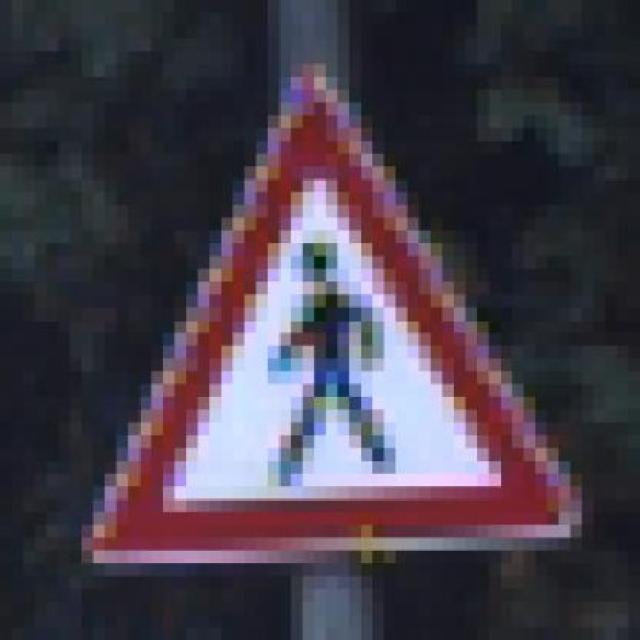Pedestrian Crossing: (58, 64, 594, 576)
